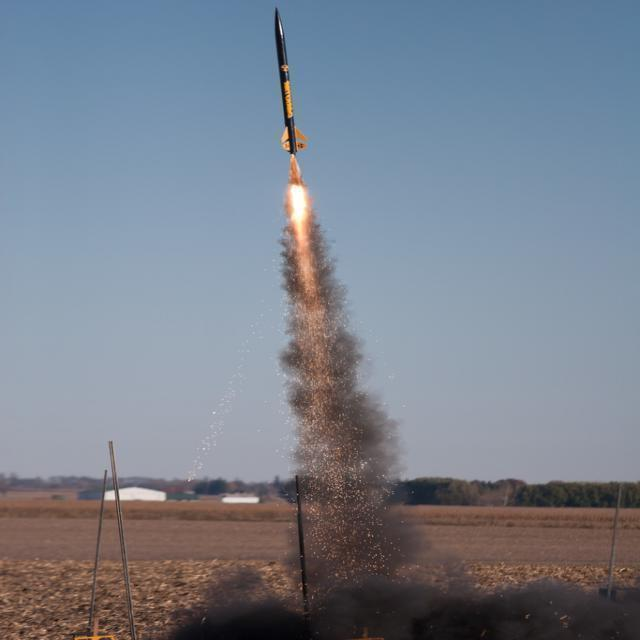missile: (262, 3, 324, 190)
